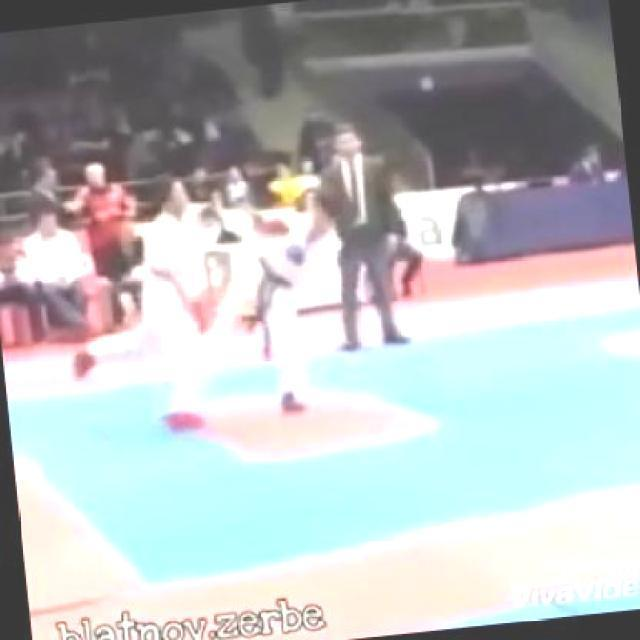fight: (112, 158, 362, 427)
